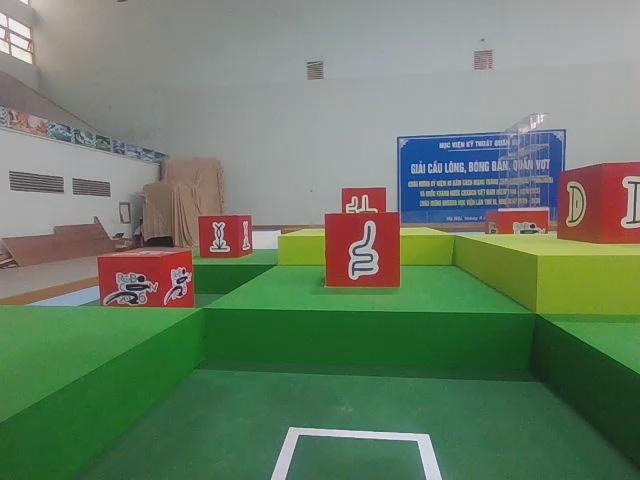R1: (93, 244, 197, 326)
R2 Fake: (321, 209, 403, 291)
R2 Real: (550, 159, 640, 248), (193, 211, 255, 263)
